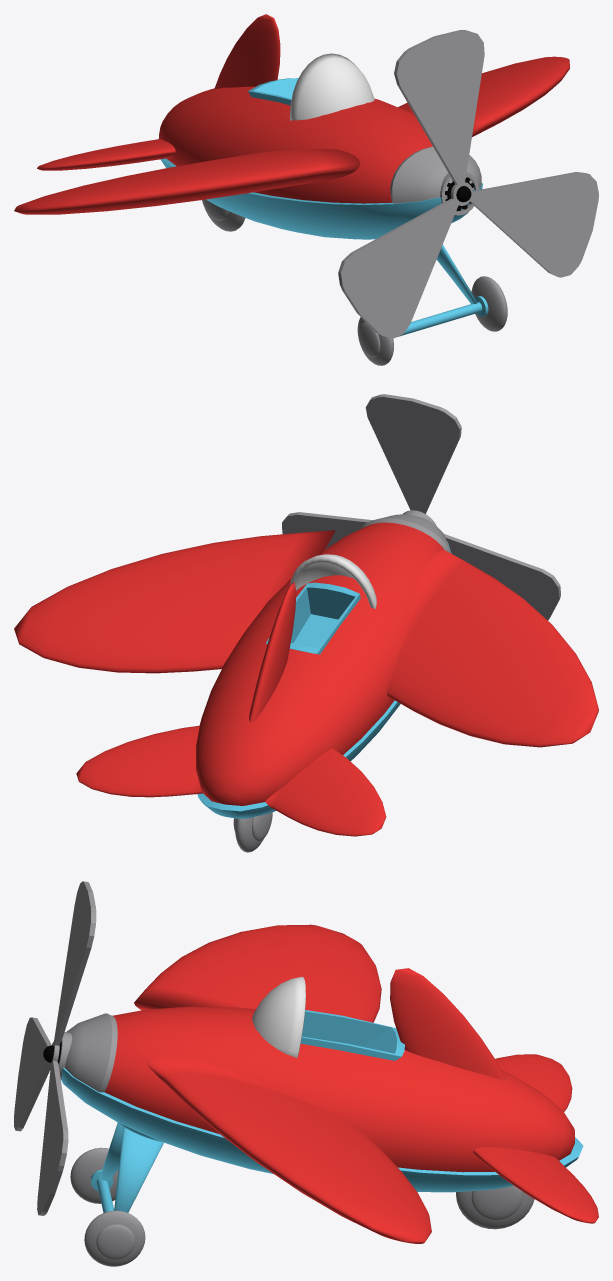
The picture shows the model from 3 angles, top to bottom: view 1: azimuth 30°, elevation 25°; view 2: azimuth 150°, elevation 25°; view 3: azimuth 270°, elevation 25°; orthographic projection. The views are drawn at different scales.
Visible parts, largest first — view 1: Circle, plane_body, side wings, plane_body.002, Sphere, back wing top, plane_body.003, back wings sides, wheel 2, wheel, linkwheels, plane_body.001 (+2 smaller); view 2: side wings, plane_body, back wings sides, Circle, plane_body.001, back wing top, Sphere, plane_body.002, wheel 3, plane_body.003; view 3: side wings, plane_body, Circle, back wings sides, plane_body.002, back wing top, plane_body.001, plane_body.003, Sphere, support, wheel 2, wheel 3 (+2 smaller).
Boxes of the visible parts, x1,y1,x2,y2 form: Circle: (338, 30, 598, 338); plane_body: (159, 86, 432, 203); side wings: (14, 56, 569, 214); plane_body.002: (158, 138, 482, 239); Sphere: (289, 53, 374, 120); back wing top: (214, 14, 280, 88); plane_body.003: (390, 146, 481, 203); back wings sides: (37, 139, 175, 170); wheel 2: (471, 276, 507, 331); wheel: (357, 317, 393, 365); linkwheels: (398, 296, 488, 336); plane_body.001: (248, 78, 298, 105); side wings: (14, 530, 598, 747); plane_body: (196, 522, 443, 805); back wings sides: (76, 725, 386, 836); Circle: (282, 394, 560, 620); plane_body.001: (266, 582, 360, 654); back wing top: (249, 582, 296, 722); Sphere: (290, 554, 376, 608); plane_body.002: (197, 542, 451, 818); wheel 3: (233, 812, 272, 852); plane_body.003: (360, 514, 451, 553); side wings: (134, 924, 431, 1243); plane_body: (104, 1006, 574, 1172); Circle: (14, 881, 96, 1215); back wings sides: (473, 1054, 598, 1223); plane_body.002: (58, 1063, 583, 1192); back wing top: (390, 968, 506, 1080); plane_body.001: (300, 1010, 404, 1060); plane_body.003: (65, 1013, 117, 1092); Sphere: (252, 977, 305, 1057); support: (99, 1123, 163, 1212); wheel 2: (84, 1210, 145, 1266); wheel 3: (456, 1186, 534, 1229).
Size of the model in its own units: 66.13 by 36.06 by 54.75.
